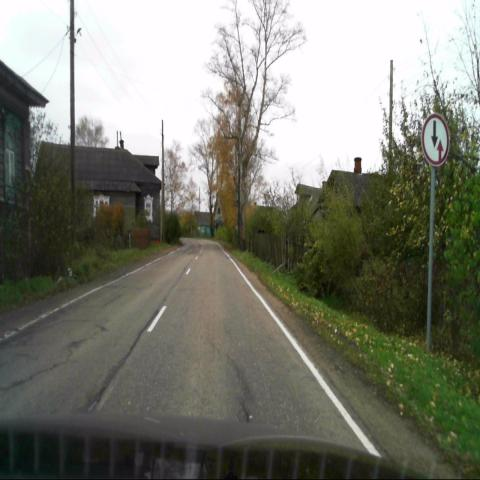2_6: (420, 113, 451, 167)
